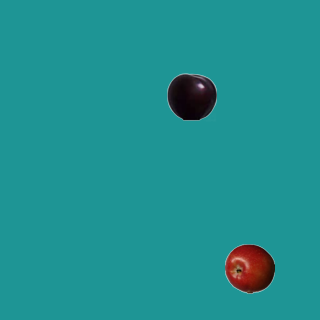Apple Braeburn: (224, 243, 274, 293)
Cherry Wax Black: (166, 71, 216, 121)
